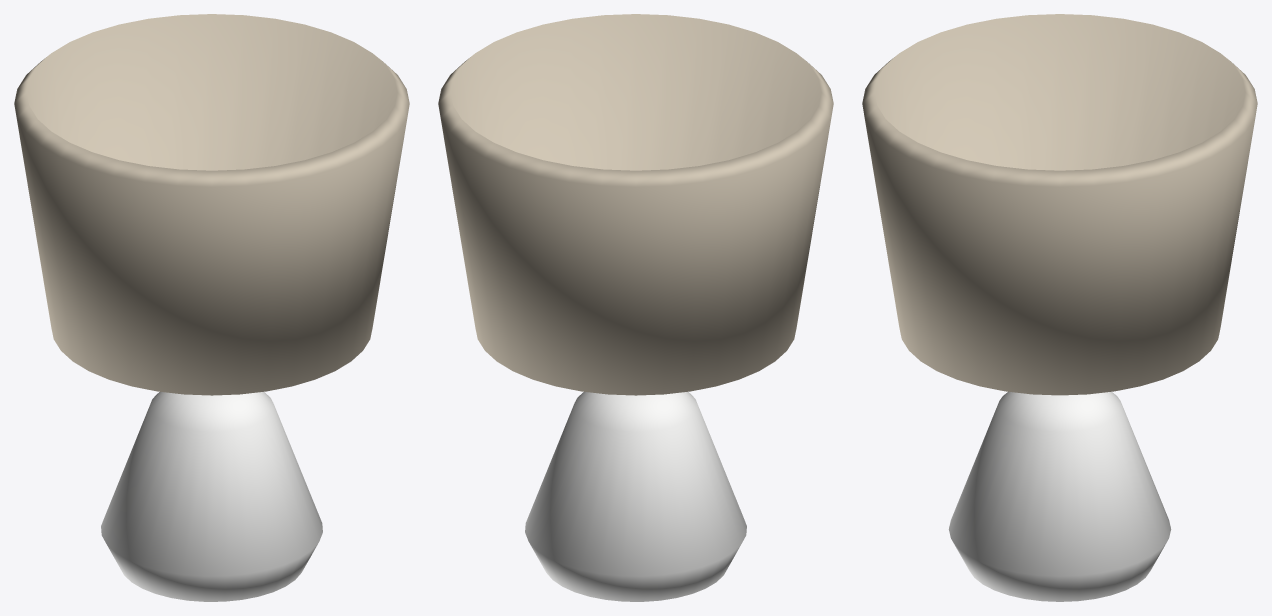
Rendered from bed2_lamp.glb.
3 renders of one model, left to right at view 1: azimuth 30°, elevation 25°; view 2: azimuth 150°, elevation 25°; view 3: azimuth 270°, elevation 25°, orthographic.
Visible parts, largest first — view 1: bed2_lamp; view 2: bed2_lamp; view 3: bed2_lamp.
Boxes of the visible parts, <box> form: bed2_lamp: <box>14,14,409,601</box>; bed2_lamp: <box>438,14,833,601</box>; bed2_lamp: <box>862,14,1257,601</box>.
Size of the model in its own units: 0.32 by 0.42 by 0.32.
